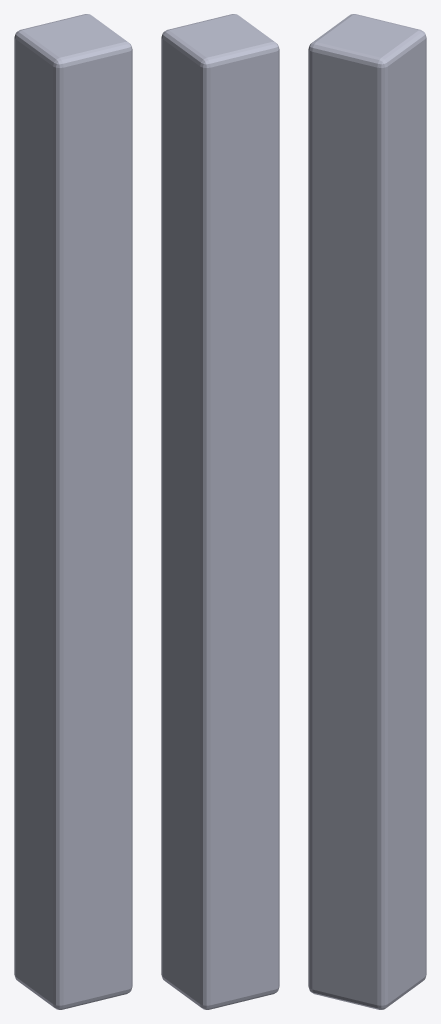
File: Platform4.fbx
The picture shows the model from 3 angles, left to right: view 1: azimuth 30°, elevation 25°; view 2: azimuth 210°, elevation 25°; view 3: azimuth 330°, elevation 25°; orthographic projection.
Visible parts, largest first — view 1: Cube.006; view 2: Cube.006; view 3: Cube.006.
Boxes of the visible parts, <box> form: Cube.006: <box>14,14,132,1009</box>; Cube.006: <box>161,14,279,1009</box>; Cube.006: <box>308,14,426,1009</box>.
Bounding box in the file's own units: 13.84 × 161 × 13.84.
